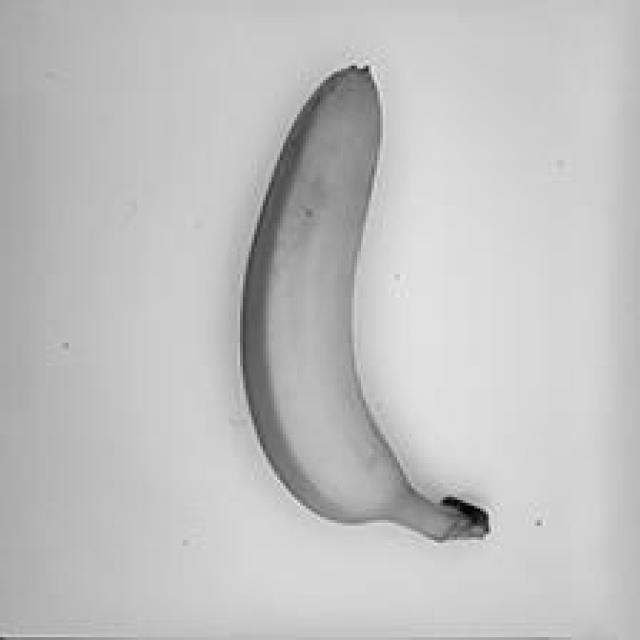Unripe: (216, 59, 514, 575)
